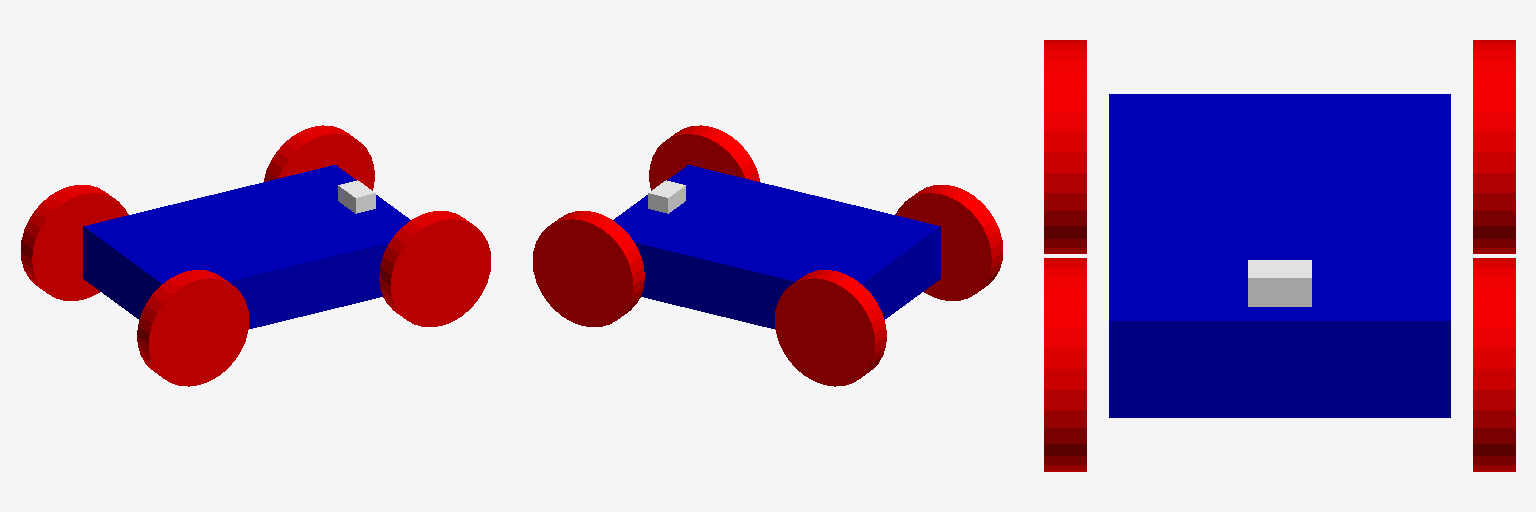
robot.urdf — smartcar:
<?xml version="1.0"?>
<robot name="smartcar">
  <link name="base_link">
    <visual>
      <geometry>
        <box size="0.25 .16   .05"/>
    </geometry>
    <origin rpy="0 0 0"   xyz="0 0 0.0"/>
    <material name="gree">
        <color rgba="0 0 .8   1"/>
    </material>
    </visual>
 </link>
 
 <link   name="left_front_wheel">
    <visual>
      <geometry>
        <cylinder length=".02"   radius="0.05"/>
      </geometry>
      <material name="red">
        <color rgba="1 0 0   1"/>
      </material>
    </visual>
  </link>
 
  <joint   name="left_front_wheel_joint" type="continuous">
    <axis xyz="0 0 1"/>
    <parent   link="base_link"/>
    <child   link="right_front_wheel"/>
    <origin rpy="1.57075 0 0"   xyz="0.12 0.1 0"/>
    <limit effort="100"   velocity="100"/>
    <joint_properties   damping="0.0" friction="0.0"/>
  </joint>
 <link name="right_front_wheel">
    <visual>
      <geometry>
        <cylinder length=".02"   radius="0.05"/>
      </geometry>
      <material name="red">
        <color rgba="1 0 0   1"/>
      </material>
    </visual>
  </link>
 
  <joint name="right_front_wheel_joint"   type="continuous">
    <axis xyz="0 0 1"/>
    <parent   link="base_link"/>
    <child   link="left_front_wheel"/>
    <origin rpy="1.57075 0 0"   xyz="0.12 -0.1 0"/>
    <limit effort="100"   velocity="100"/>
    <joint_properties damping="0.0"   friction="0.0"/>
  </joint>
  <link   name="right_back_wheel">
    <visual>
      <geometry>
        <cylinder length=".02"   radius="0.05"/>
      </geometry>
      <material name="red">
        <color rgba="1 0 0   1"/>
      </material>
    </visual>
  </link>
 
  <joint   name="right_back_wheel_joint" type="continuous">
    <axis xyz="0 0 1"/>
    <parent   link="base_link"/>
    <child   link="right_back_wheel"/>
    <origin rpy="1.57075 0 0"   xyz="-0.12 -0.1 0"/>
    <limit effort="100"   velocity="100"/>
    <joint_properties   damping="0.0" friction="0.0"/>
 </joint>
 
  <link   name="left_back_wheel">
    <visual>
      <geometry>
        <cylinder length=".02"   radius="0.05"/>
      </geometry>
      <material name="red">
        <color rgba="1 0 0   1"/>
      </material>
    </visual>
  </link>
 
  <joint   name="left_back_wheel_joint" type="continuous">
    <axis xyz="0 0 1"/>
    <parent   link="base_link"/>
    <child   link="left_back_wheel"/>
    <origin rpy="1.57075 0 0"   xyz="-0.12 0.1 0"/>
    <limit effort="100"   velocity="100"/>
    <joint_properties   damping="0.0" friction="0.0"/>
  </joint>
 
  <link name="camera">
    <visual>
      <geometry>
        <box size=".02 .03   .03"/>
      </geometry>
      <material name="white">
          <color rgba="1 1 1   1"/>
      </material>
    </visual>
  </link>
 
  <joint name="camera_joint"   type="fixed">
    <parent   link="base_link"/>
    <child link="camera"/>
    <origin xyz="0.1 0.0   0.025"/>
  </joint>
</robot>

--- Facts derived from the render (not from the file) ---
Views: 3 orthographic renders of the robot side by side, from view 1: azimuth 30°, elevation 25°; view 2: azimuth 150°, elevation 25°; view 3: azimuth 270°, elevation 25°.
Robot: smartcar — 6 links, 5 joints (4 continuous, 1 fixed); root link base_link; default pose: all joints at 0.
Visible links, largest first — view 1: base_link, right_back_wheel, left_front_wheel, left_back_wheel, right_front_wheel, camera; view 2: base_link, left_back_wheel, right_front_wheel, right_back_wheel, left_front_wheel, camera; view 3: base_link, left_front_wheel, right_front_wheel, right_back_wheel, left_back_wheel, camera.
Link boxes in pixels (box(x1,y1,x2,y2)): base_link: box(83, 165, 410, 328); right_back_wheel: box(137, 270, 248, 386); left_front_wheel: box(379, 211, 490, 326); left_back_wheel: box(21, 185, 128, 300); right_front_wheel: box(264, 125, 374, 190); camera: box(338, 180, 375, 213); base_link: box(613, 165, 940, 328); left_back_wheel: box(775, 270, 886, 386); right_front_wheel: box(533, 211, 644, 326); right_back_wheel: box(895, 185, 1002, 300); left_front_wheel: box(649, 125, 759, 190); camera: box(648, 180, 685, 213); base_link: box(1109, 94, 1450, 417); left_front_wheel: box(1044, 258, 1086, 471); right_front_wheel: box(1473, 258, 1515, 471); right_back_wheel: box(1044, 40, 1086, 253); left_back_wheel: box(1473, 40, 1515, 253); camera: box(1248, 260, 1311, 306).
Size in the robot's own frame: 0.34 by 0.22 by 0.1 metres.
Geometry: primitives only (box / cylinder / sphere), no mesh files.
